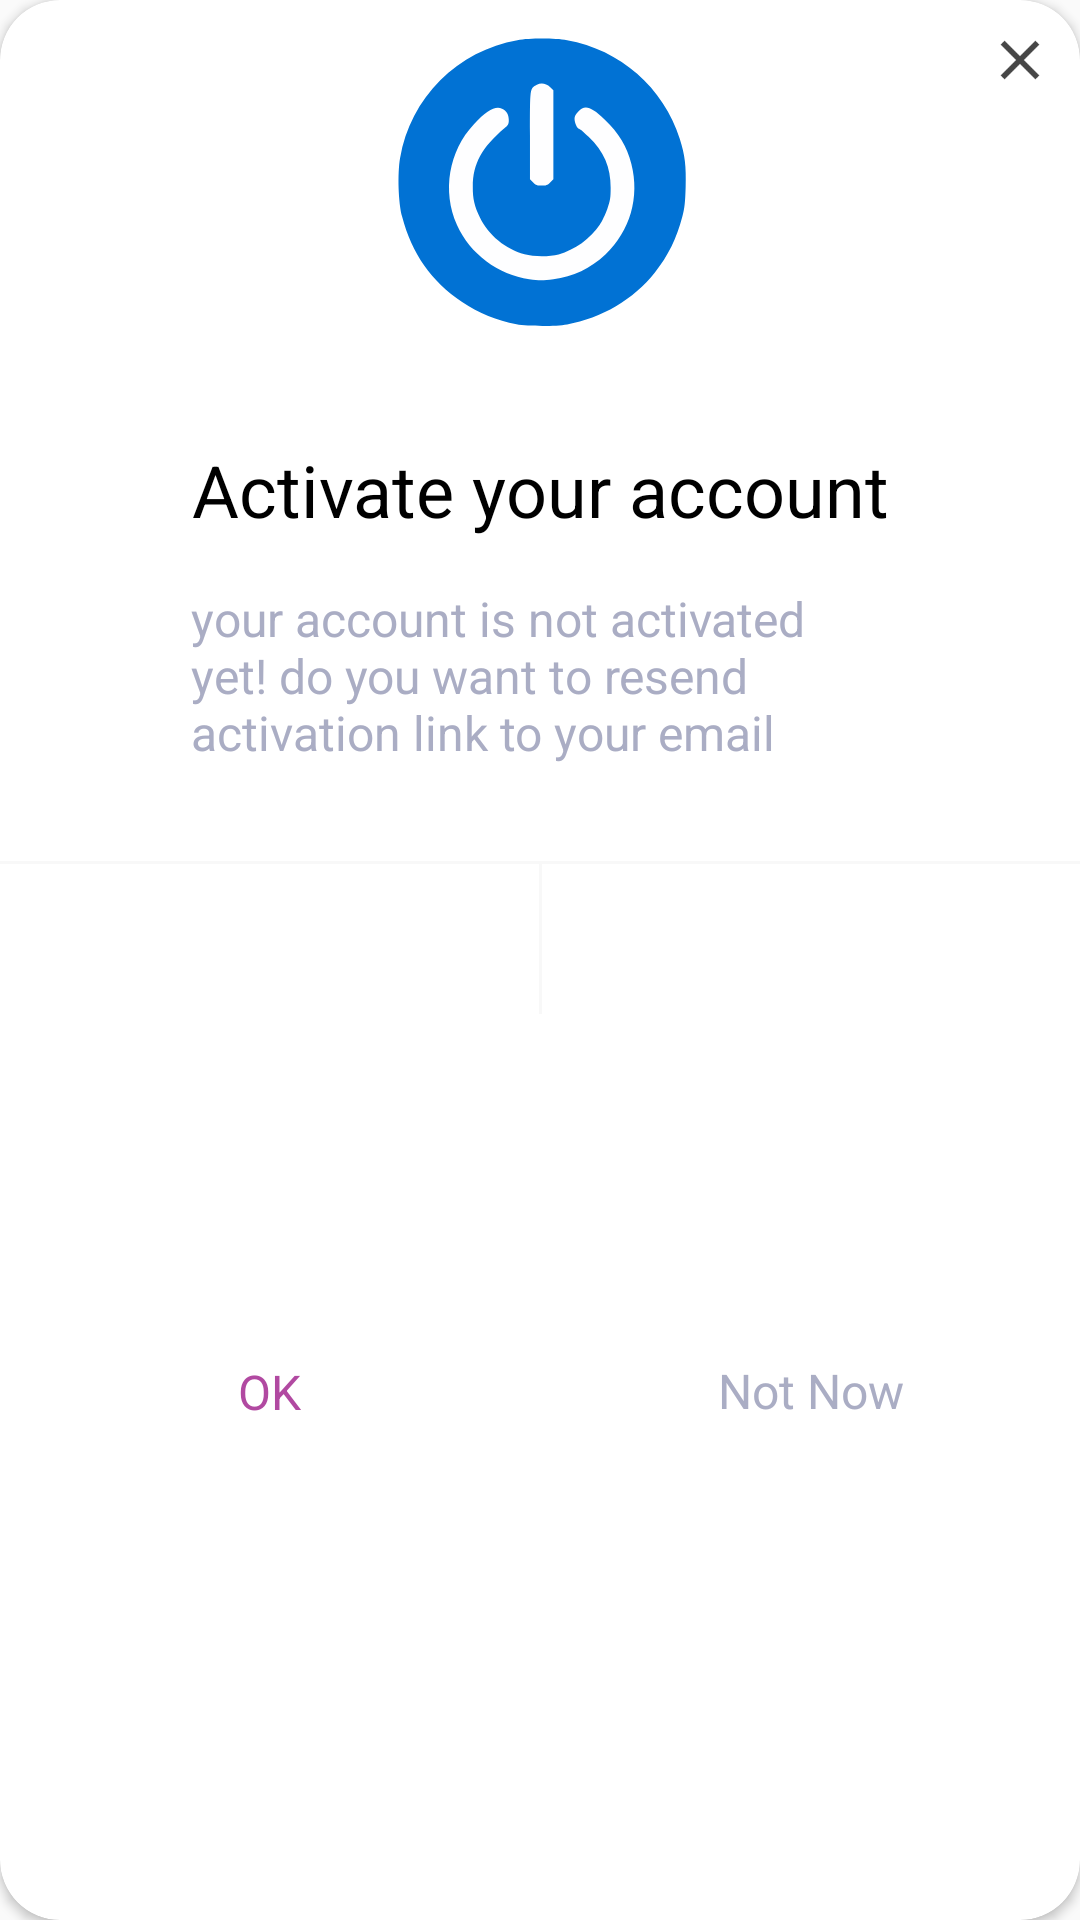

Icon click points for this 1080 x 1920 phone screenshot, format point (x, y):
close: point (1020, 60)
